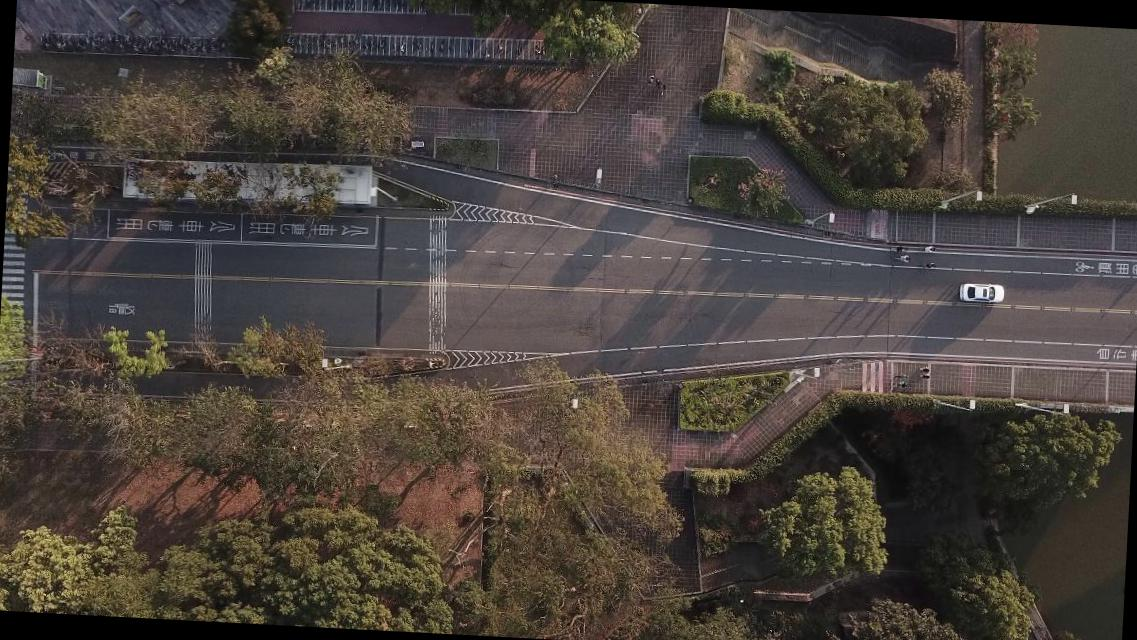vehicle: (958, 282, 1004, 304)
